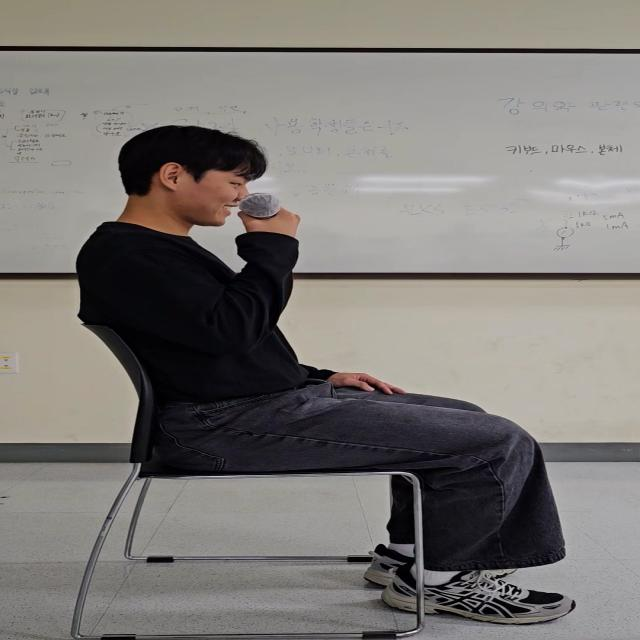curl: (129, 262, 228, 337), (227, 225, 278, 338)
